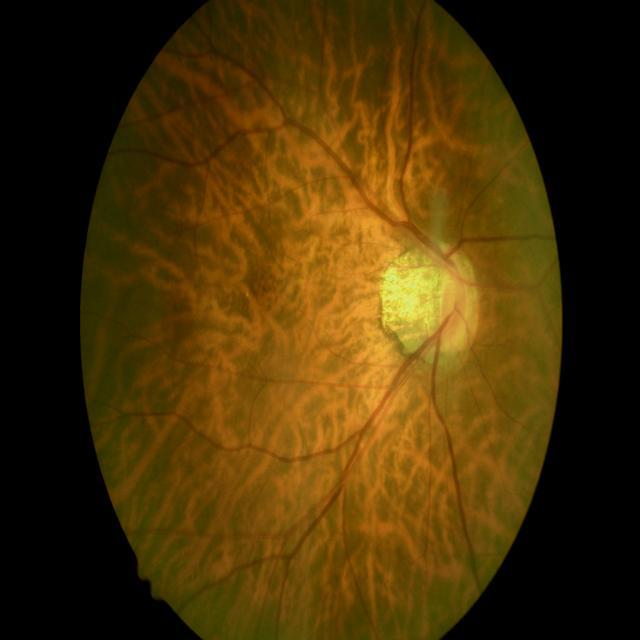cup: (441, 271, 457, 327)
disk: (440, 260, 466, 340)
